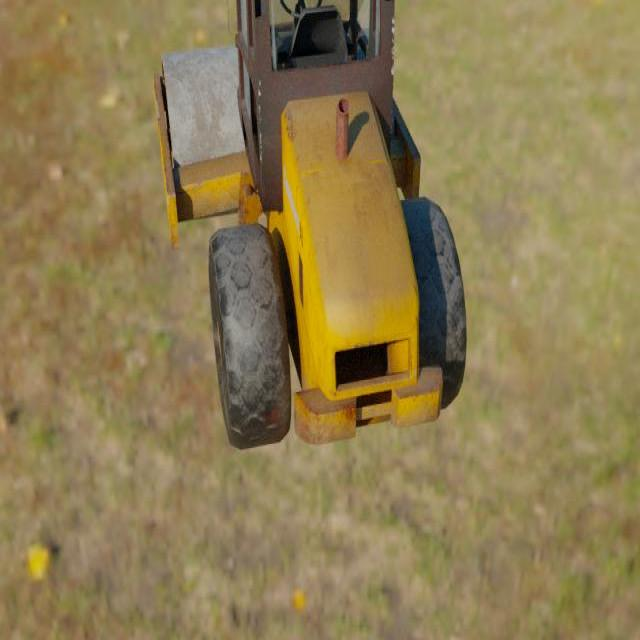Roller: (152, 0, 467, 452)
